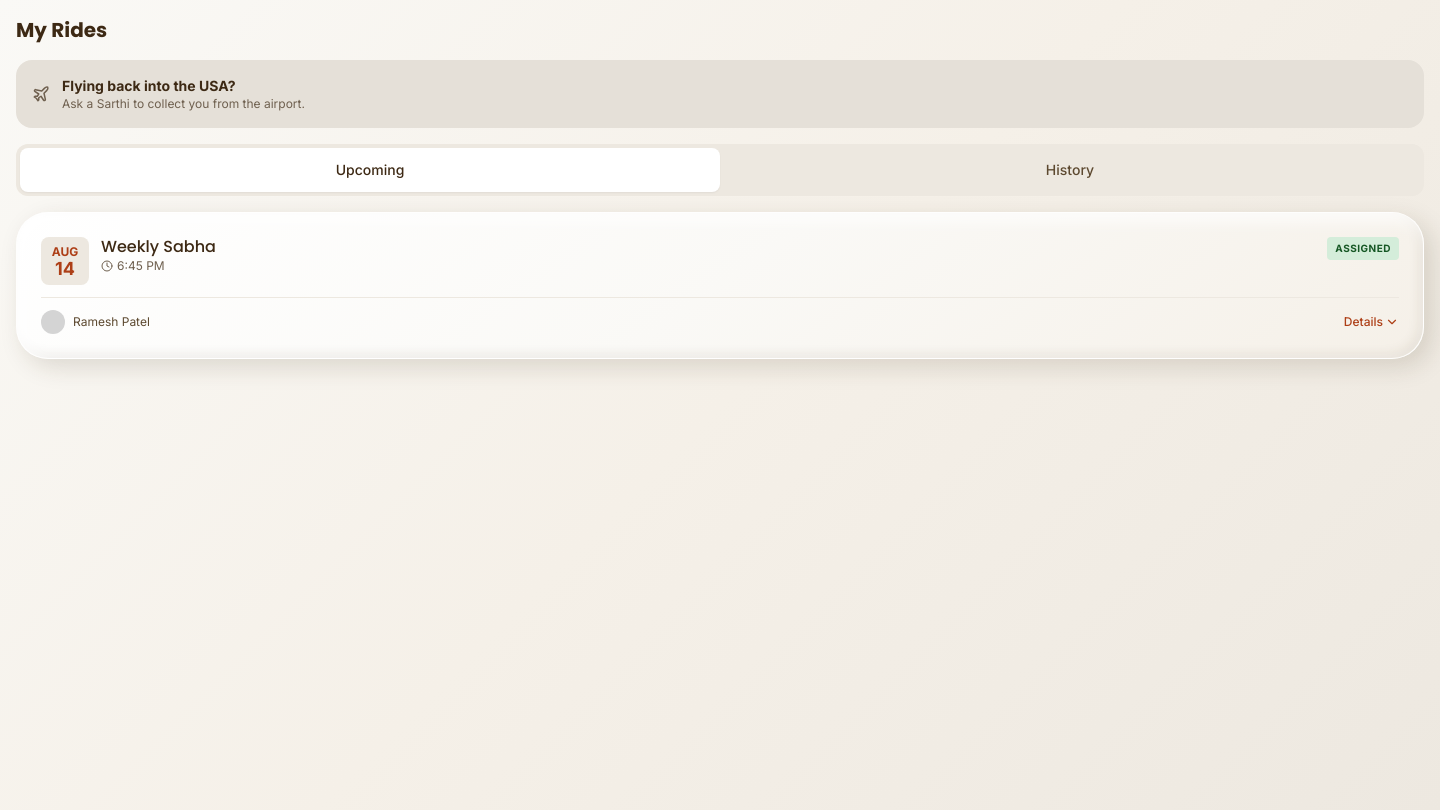
Test: MyRides — the two tabs › switches to history and back
Click the button "History" at (1070, 170), box [720,148,1420,192]
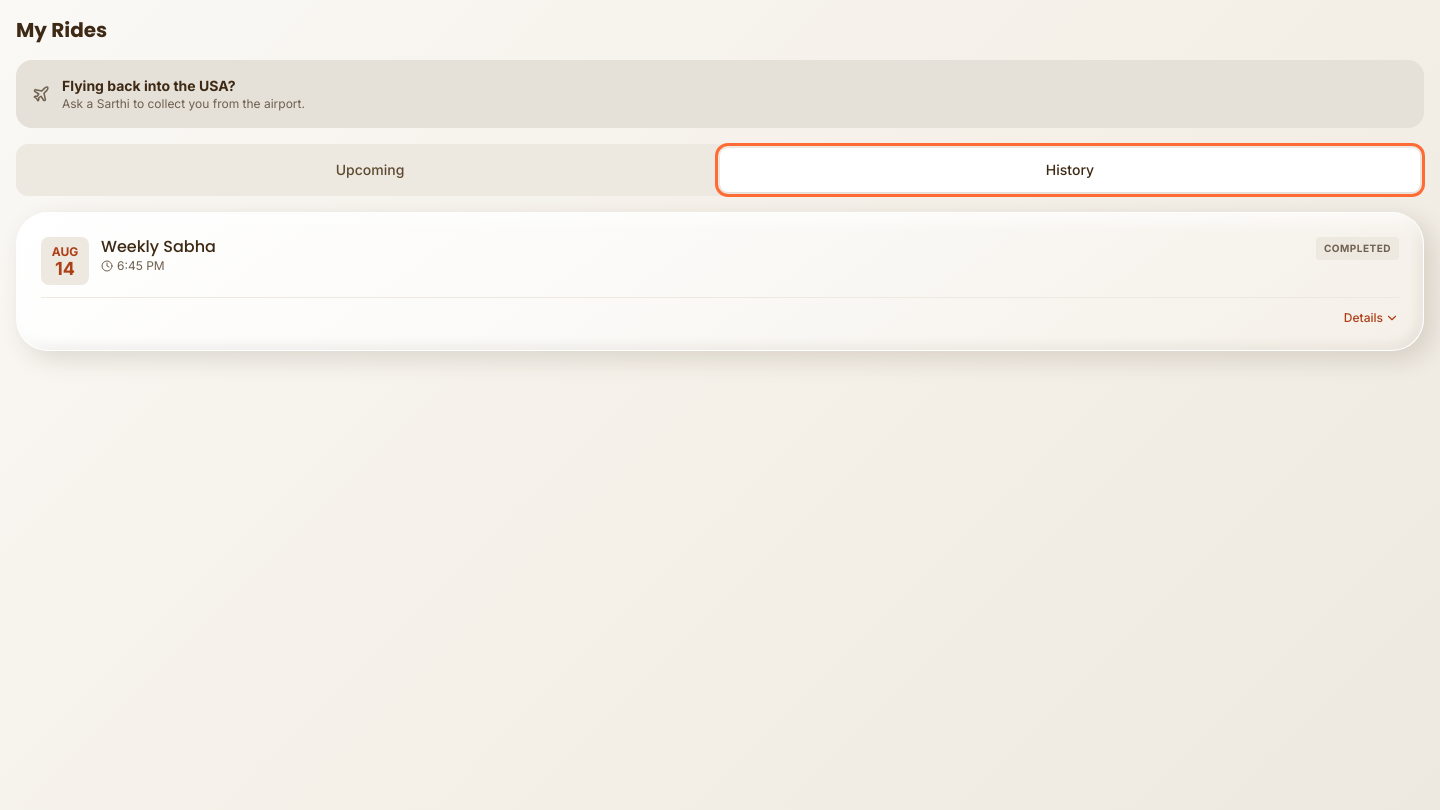
Expected: the text "Ramesh Patel" is gone
Click the button "Upcoming" at (370, 170), box [20,148,720,192]
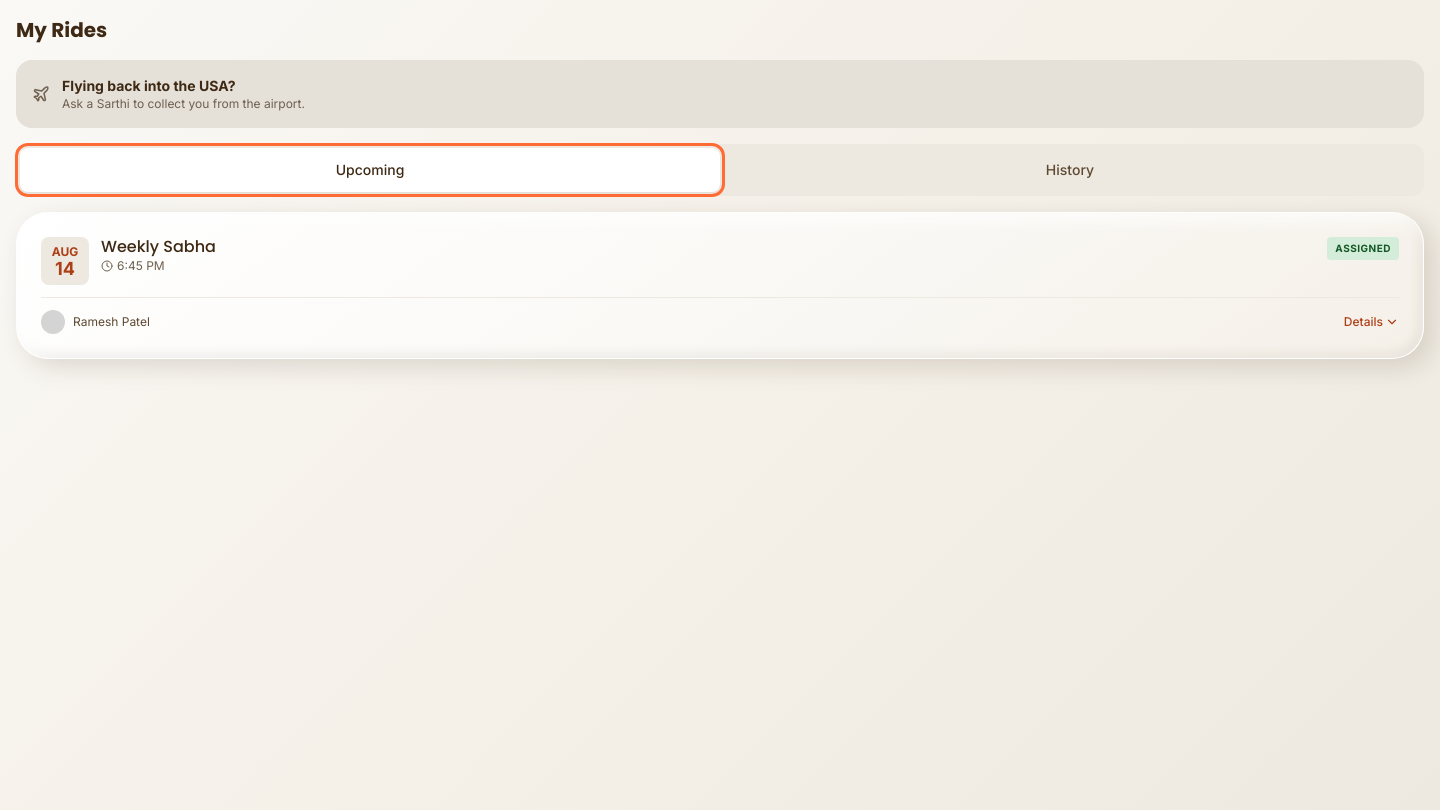
Expected: the text "Ramesh Patel" is shown, [73,314,150,330]
